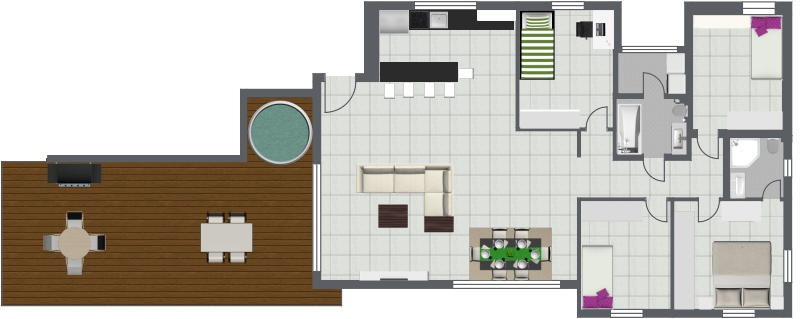door: (323, 84, 357, 116), (577, 94, 611, 126), (692, 202, 724, 226), (641, 200, 670, 225), (638, 68, 667, 91), (696, 138, 721, 162), (760, 174, 782, 198), (644, 159, 666, 183)
